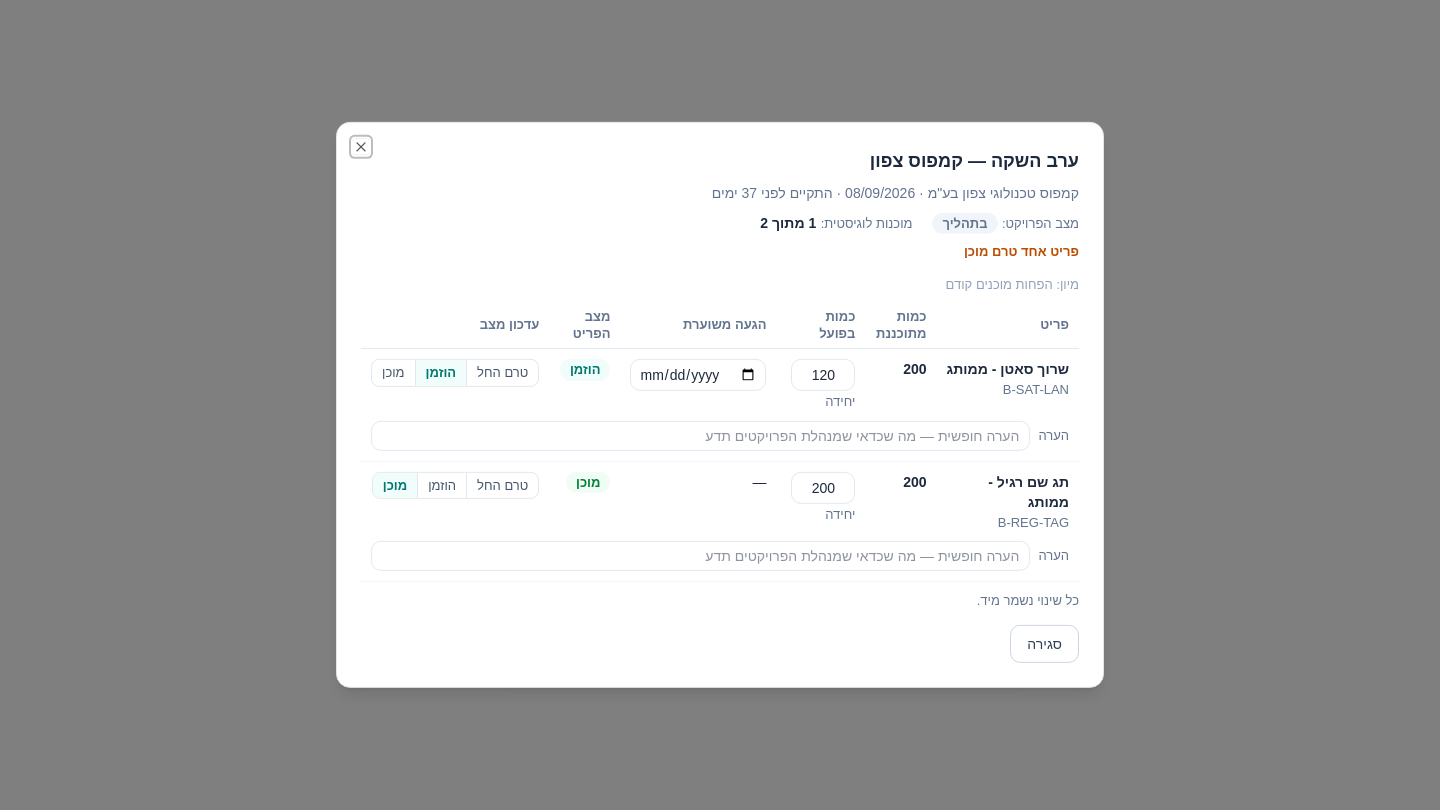
ChecklistDialog — ⑬ באנר ההשלמה › חוסר של יחידה אחת — "יחידה אחת", לעולם לא "1 יחידות" (עוגן O-5)
Expected: the row with test id "checklist-row-B-SAT-LAN-1" is shown, [361,349,1079,420]
Click the button with test id "checklist-status-B-SAT-LAN-1-ready".
click(393, 373)  # box [372,360,414,386]
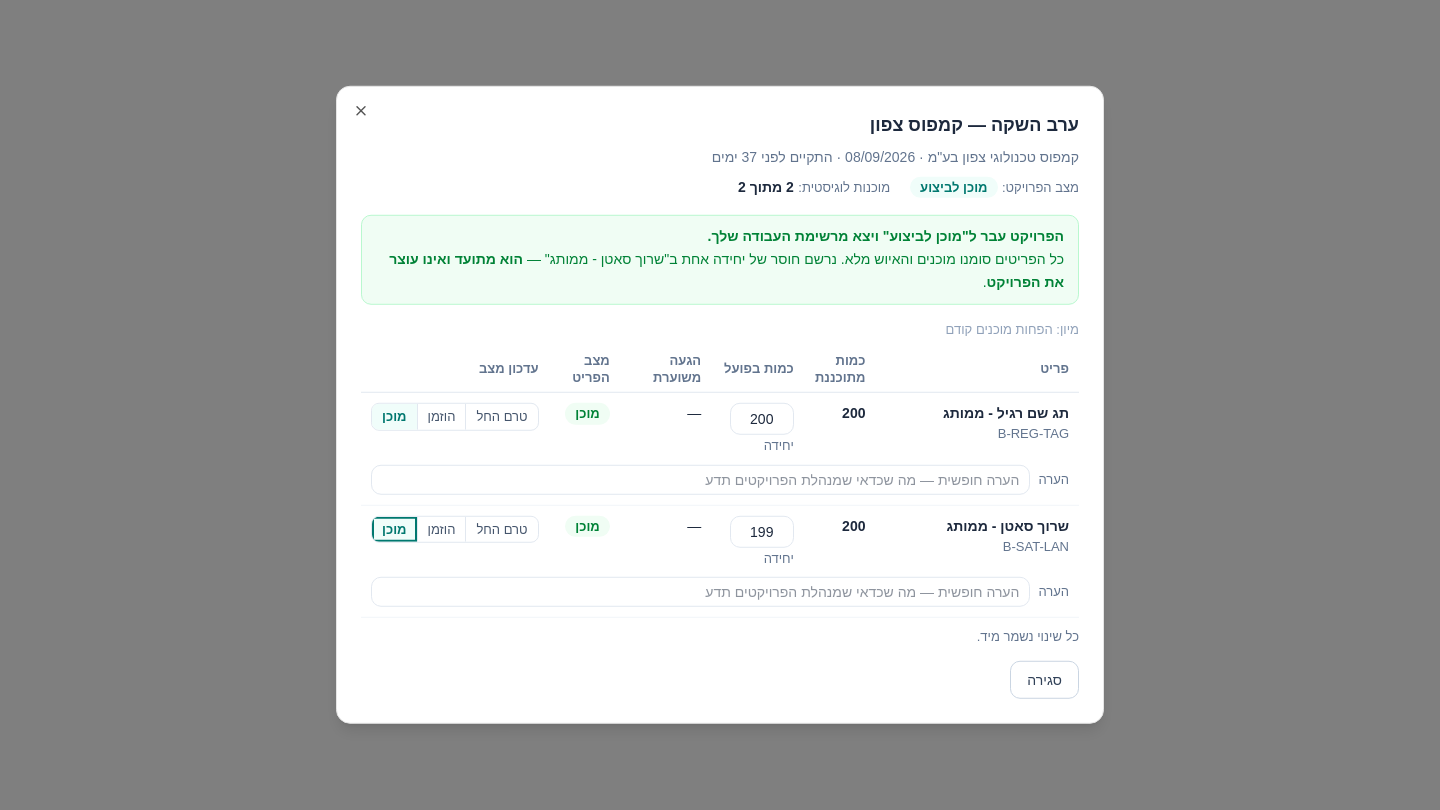
Now the element with test id "checklist-shortfall" reads "נרשם חוסר של יחידה אחת ב\"שרוך סאטן - ממותג\" — הוא מתועד ואינו עוצר את הפרויקט.", box [389,251,1064,290]
